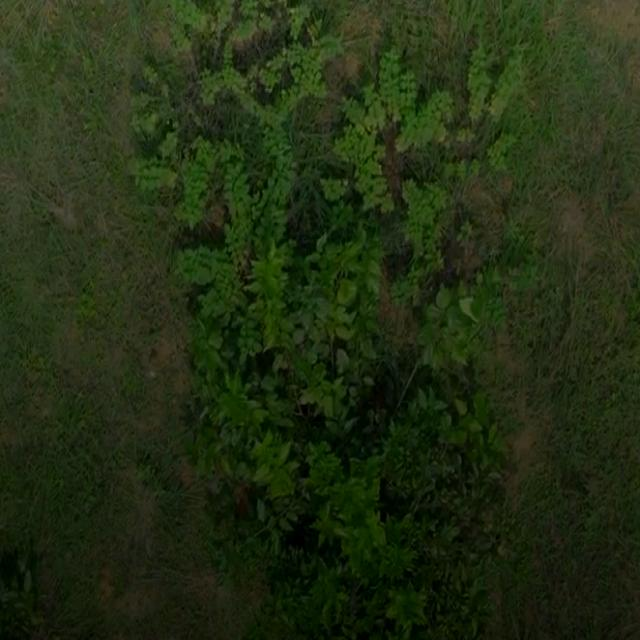notMangoTree: (136, 0, 544, 640)
